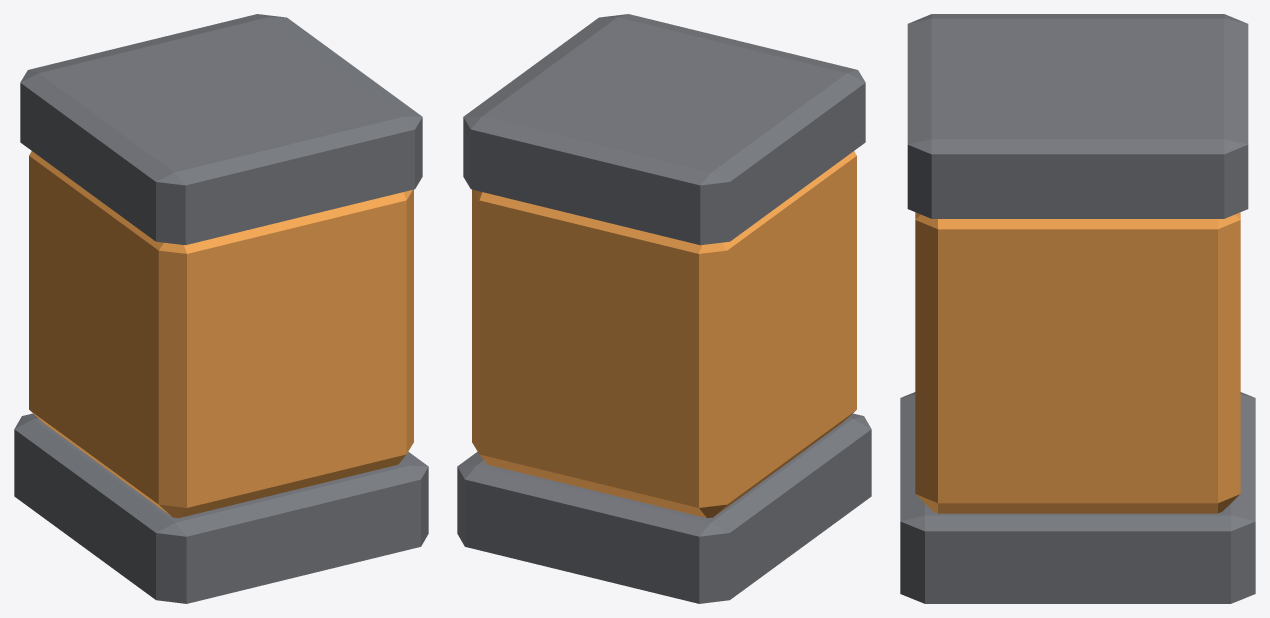
The model's file is b11_barrel_rainwater_collector.glb.
3 renders of one model, left to right at view 1: azimuth 30°, elevation 25°; view 2: azimuth 150°, elevation 25°; view 3: azimuth 270°, elevation 25°, orthographic. The views are drawn at different scales.
Parts seen in each view (by area): view 1: b11_barrel_rainwater_collector; view 2: b11_barrel_rainwater_collector; view 3: b11_barrel_rainwater_collector.
Part boxes in pixels (left/top/right/bottom): b11_barrel_rainwater_collector: left=14, top=14, right=428, bottom=603; b11_barrel_rainwater_collector: left=457, top=14, right=871, bottom=603; b11_barrel_rainwater_collector: left=900, top=14, right=1255, bottom=603.
Size of the model in its own units: 0.701 by 1.05 by 0.734.
